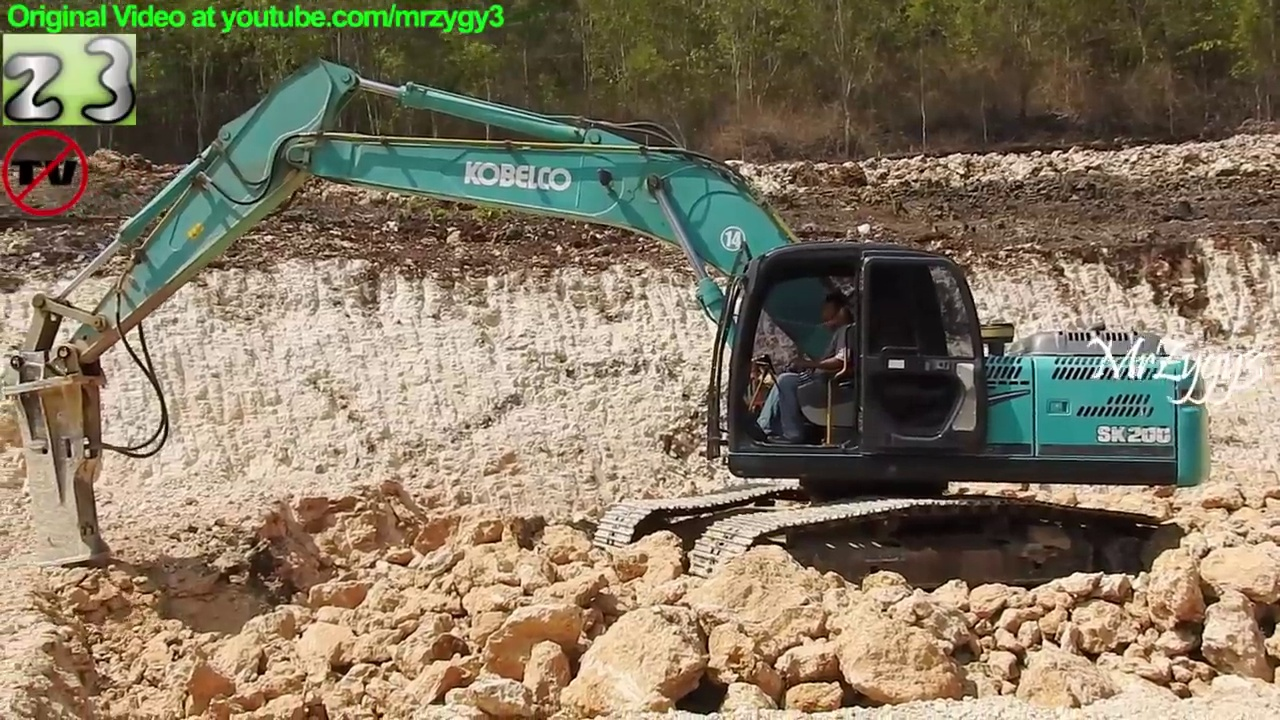excavator breaker: (6, 52, 1213, 602)
